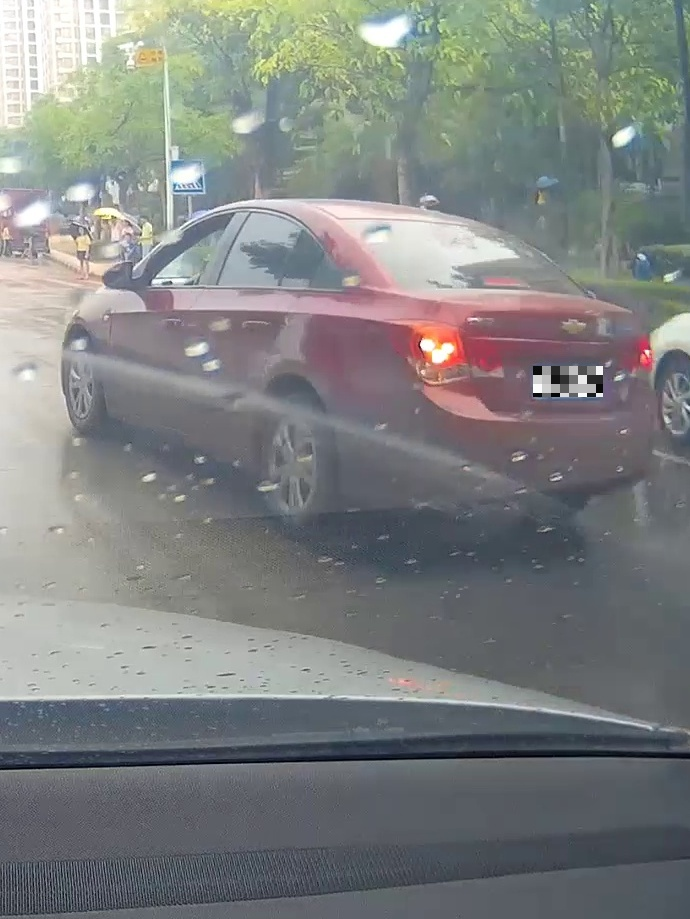L_light: (384, 318, 506, 387)
R_light: (613, 336, 656, 383)
T_light: (480, 273, 533, 287)
day-left: (323, 205, 658, 548)
plate_1: (533, 366, 603, 397)
